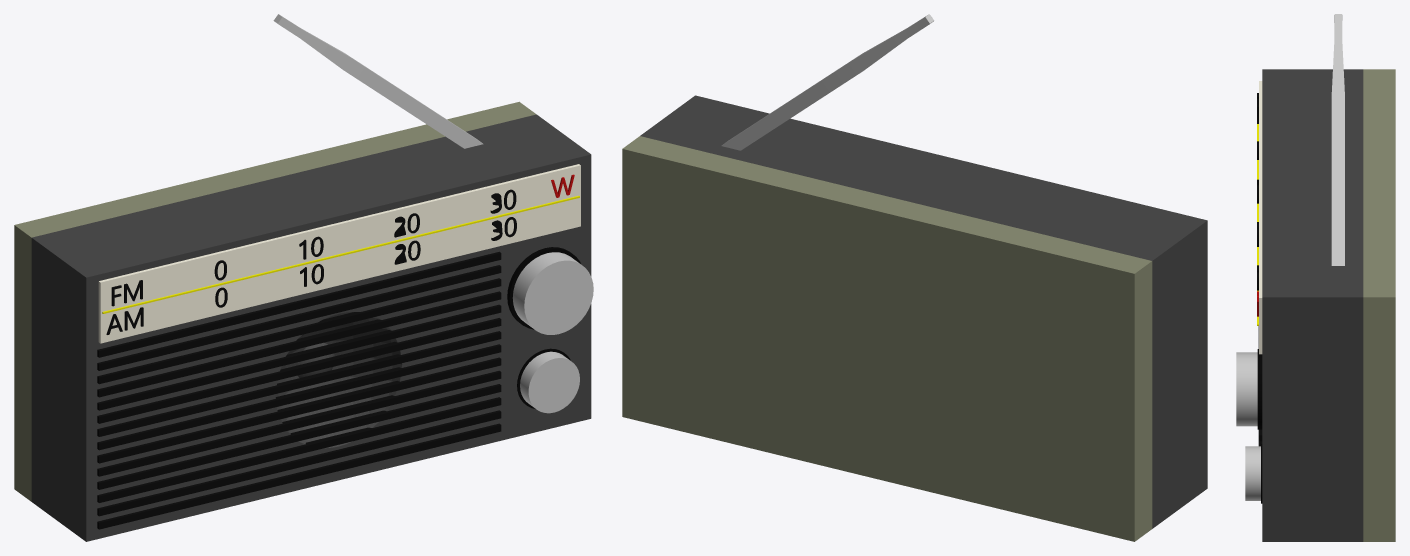
The model's file is Radio.fbx.
3 views of the same model, side by side, from view 1: azimuth 30°, elevation 25°; view 2: azimuth 150°, elevation 25°; view 3: azimuth 270°, elevation 25° (orthographic). The views are drawn at different scales.
Parts seen in each view (by area): view 1: Radio, Thing, Tuner, Cube_7, Cube_6, Cube_8, Cube_5, Cube_9, Cube_4, Cube_10, Cube_3, Cube_11 (+9 smaller); view 2: Radio, Thing_1; view 3: Radio, Thing_1, Tuner, Thing, Volume, Cylinder_1_2.
Boxes of the visible parts, x1,y1,x2,y2 form: Radio: (14, 101, 591, 541); Thing: (98, 164, 580, 343); Tuner: (512, 252, 593, 334); Cube_7: (97, 344, 501, 450); Cube_6: (97, 331, 501, 436); Cube_8: (97, 357, 501, 463); Cube_5: (97, 318, 501, 423); Cube_9: (97, 370, 501, 476); Cube_4: (97, 304, 501, 410); Cube_10: (97, 384, 501, 489); Cube_3: (97, 291, 501, 397); Cube_11: (97, 397, 501, 502); Radio: (622, 95, 1207, 541); Thing_1: (721, 14, 933, 150); Radio: (1262, 69, 1395, 541); Thing_1: (1331, 14, 1344, 265); Tuner: (1236, 352, 1257, 426); Thing: (1259, 81, 1262, 354); Volume: (1245, 446, 1260, 500); Cylinder_1_2: (1257, 349, 1262, 429).
Size of the model in its own units: 400 by 332 by 118.
